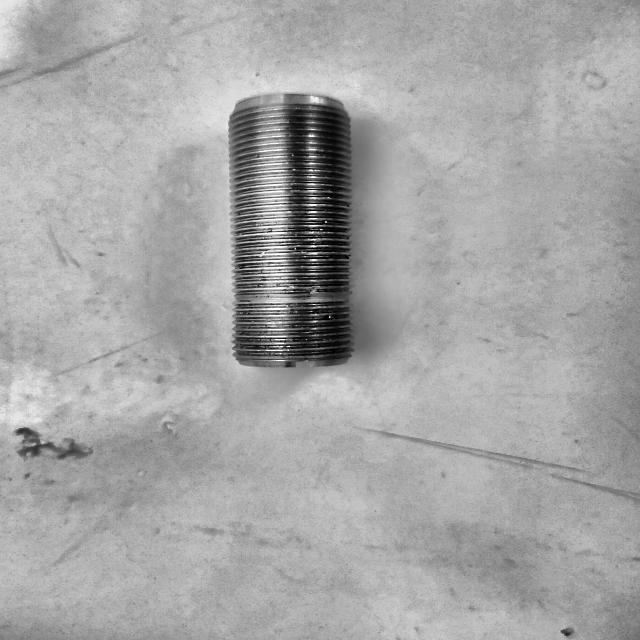Broken: (223, 89, 359, 371)
